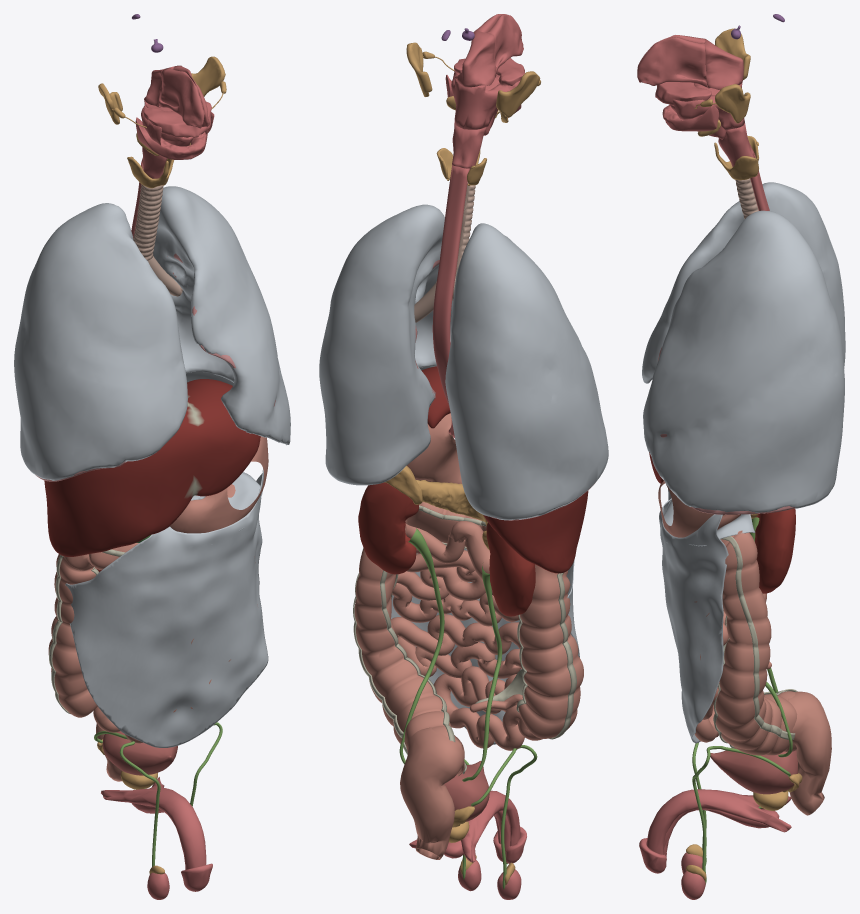
Rendered from organs.glb.
The picture shows the model from 3 angles, left to right: view 1: azimuth 30°, elevation 25°; view 2: azimuth 150°, elevation 25°; view 3: azimuth 270°, elevation 25°; orthographic projection. The views are drawn at different scales.
Parts seen in each view (by area): view 1: Pleura, Greater_omentum, Liver, Ascending_colon, Corpus_cavernosum_of_penis, Stomach, Gingiva, Mucosa_of_nasal_cavity, Urinary_bladder, Trachea, Mesocolon, Parotid_gland_l (+5 smaller); view 2: Pleura, Jejunum, Ascending_colon, Descending_colon, Sigmoid_colon, Liver, Kidney_l, Oesophagus, Kidney_r, Stomach, Oropharynx, Corpus_cavernosum_of_penis (+20 smaller); view 3: Pleura, Greater_omentum, Descending_colon, Sigmoid_colon, Corpus_cavernosum_of_penis, Mucosa_of_nasal_cavity, Kidney_l, Urinary_bladder, Gingiva, Mesocolic_taenia, Nasopharynx, Stomach (+13 smaller).
Part boxes in pixels (left/top/right/bottom): Pleura: left=14, top=186, right=290, bottom=480; Greater_omentum: left=65, top=468, right=268, bottom=747; Liver: left=44, top=379, right=260, bottom=556; Ascending_colon: left=48, top=554, right=97, bottom=717; Corpus_cavernosum_of_penis: left=101, top=777, right=206, bottom=869; Stomach: left=170, top=436, right=268, bottom=533; Gingiva: left=135, top=101, right=211, bottom=159; Mucosa_of_nasal_cavity: left=159, top=65, right=209, bottom=128; Urinary_bladder: left=102, top=731, right=177, bottom=775; Trachea: left=133, top=184, right=163, bottom=260; Mesocolon: left=228, top=472, right=262, bottom=531; Parotid_gland_l: left=191, top=56, right=225, bottom=96; Pleura: left=319, top=204, right=608, bottom=520; Jejunum: left=391, top=523, right=542, bottom=750; Ascending_colon: left=518, top=564, right=583, bottom=738; Descending_colon: left=354, top=524, right=464, bottom=775; Sigmoid_colon: left=400, top=727, right=464, bottom=859; Liver: left=421, top=366, right=588, bottom=573; Kidney_l: left=358, top=482, right=419, bottom=574; Oesophagus: left=432, top=165, right=469, bottom=438; Kidney_r: left=486, top=522, right=535, bottom=616; Stomach: left=407, top=413, right=462, bottom=483; Oropharynx: left=451, top=71, right=520, bottom=129; Corpus_cavernosum_of_penis: left=409, top=790, right=520, bottom=862; Pleura: left=642, top=182, right=845, bottom=512; Greater_omentum: left=659, top=489, right=728, bottom=743; Descending_colon: left=715, top=530, right=797, bottom=755; Sigmoid_colon: left=788, top=691, right=831, bottom=815; Corpus_cavernosum_of_penis: left=646, top=789, right=791, bottom=854; Mucosa_of_nasal_cavity: left=637, top=35, right=706, bottom=86; Kidney_l: left=755, top=508, right=795, bottom=593; Urinary_bladder: left=710, top=748, right=797, bottom=794; Gingiva: left=655, top=82, right=718, bottom=131; Mesocolic_taenia: left=720, top=536, right=795, bottom=739; Nasopharynx: left=705, top=39, right=743, bottom=89; Stomach: left=658, top=480, right=740, bottom=537.
Bounding box in the file's own units: 0.2634 × 0.8931 × 0.1926.
